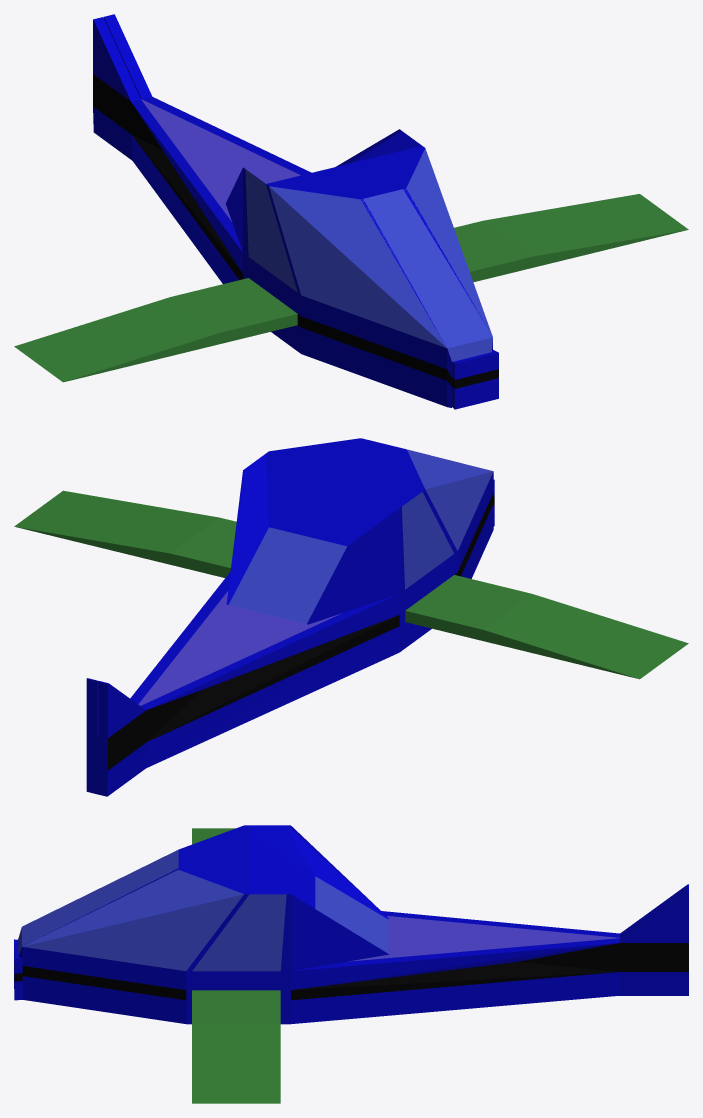
File: AirHawk.obj
3 renders of one model, top to bottom at view 1: azimuth 30°, elevation 25°; view 2: azimuth 150°, elevation 25°; view 3: azimuth 270°, elevation 25°, orthographic. The views are drawn at different scales.
Parts seen in each view (by area): view 1: Plane; view 2: Plane; view 3: Plane.
Part boxes in pixels (x1,y1,x2,y2): Plane: (14,14,688,409); Plane: (14,438,688,796); Plane: (14,825,688,1103).
Size of the model in its own units: 8 by 1.76 by 8.29.
